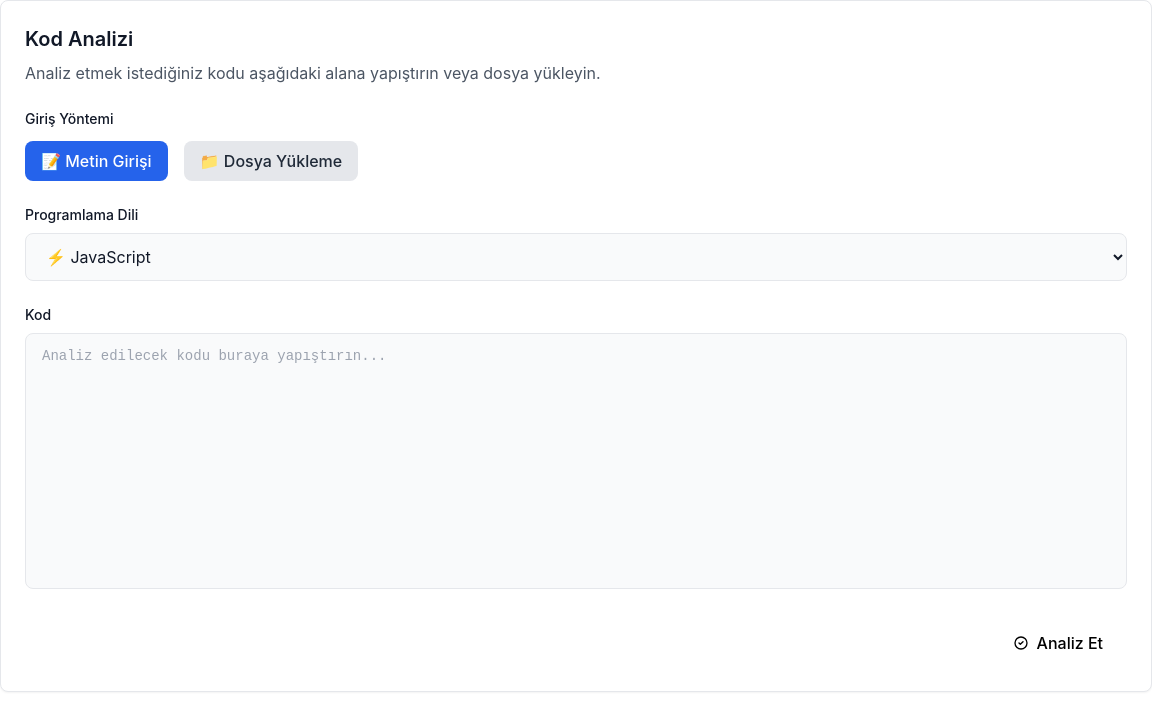
Test: CodeAnalyzer Component › switches between text input and file upload
This screenshot has width=1152, height=720.
Click the button "📁 Dosya Yükleme" at (271, 161), box [184, 141, 358, 181]
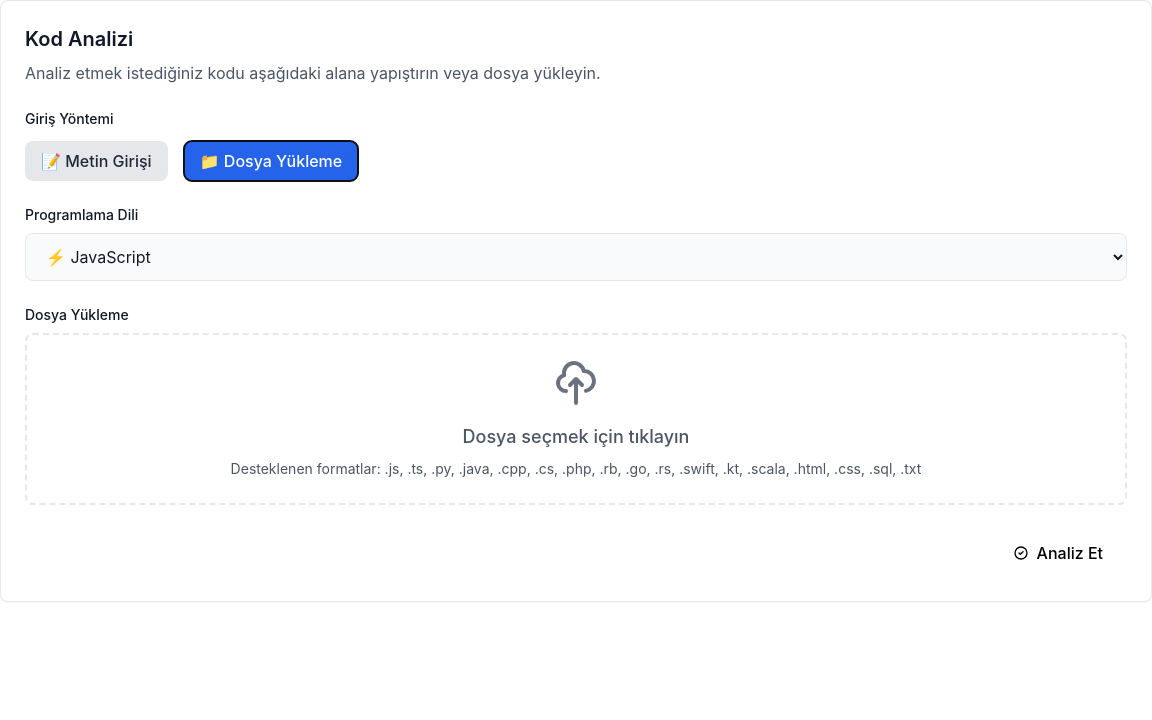
Expected: the text "Dosya seçmek için tıklayın" is shown, [462, 426, 689, 447]
Click the button "📝 Metin Girişi" at (96, 161), box [25, 141, 168, 181]
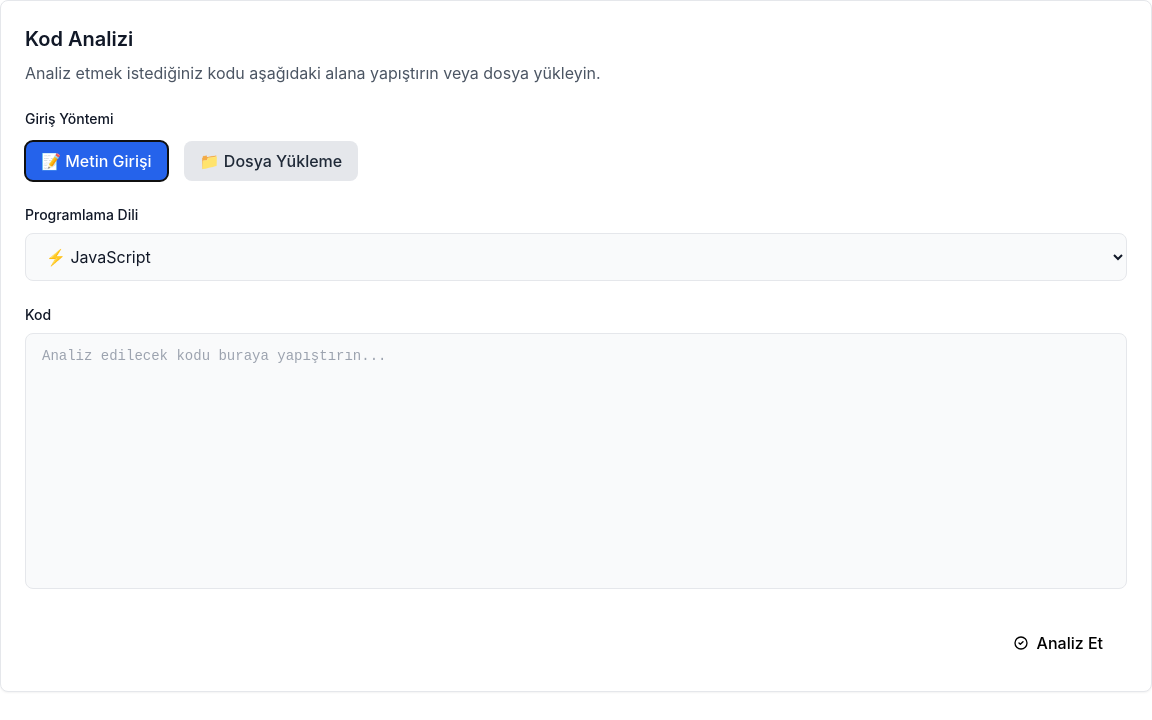
Expected: the text box with placeholder "Analiz edilecek kodu buraya yapıştırın..." is shown, [25, 333, 1127, 589]
